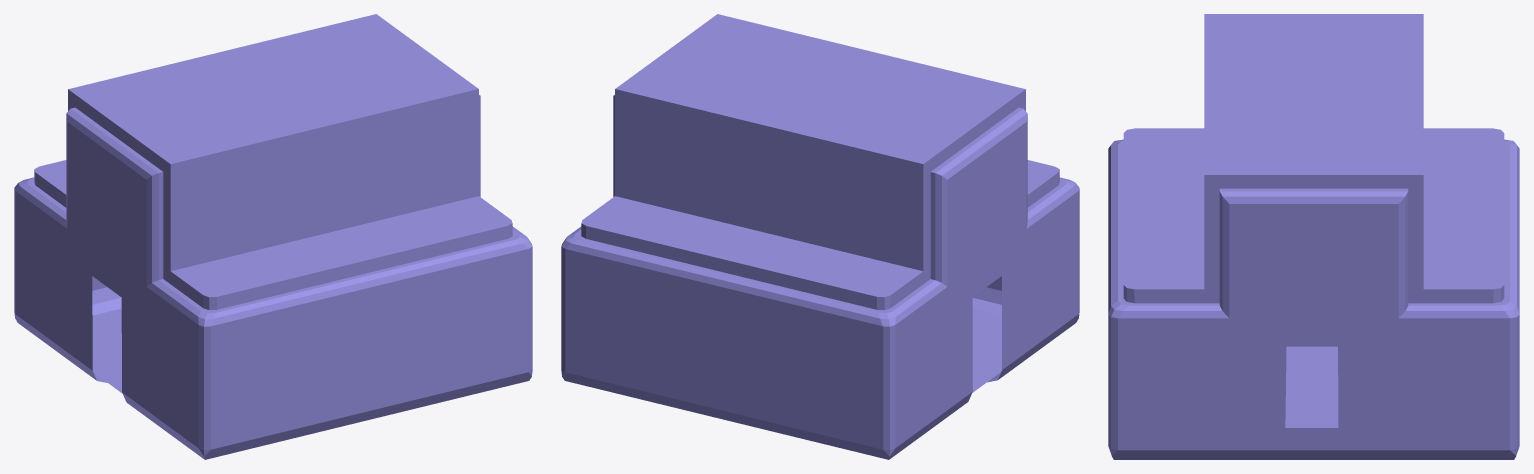
Rendered from premiere_salle.fbx.
3 renders of one model, left to right at view 1: azimuth 30°, elevation 25°; view 2: azimuth 150°, elevation 25°; view 3: azimuth 270°, elevation 25°, orthographic. The views are drawn at different scales.
Visible parts, largest first — view 1: PERMIERE_SALLE_low; view 2: PERMIERE_SALLE_low; view 3: PERMIERE_SALLE_low.
Part boxes in pixels (x1,y1,x2,y2): PERMIERE_SALLE_low: [14, 14, 532, 459]; PERMIERE_SALLE_low: [561, 14, 1079, 459]; PERMIERE_SALLE_low: [1108, 14, 1519, 459].
Bounding box in the file's own units: 18.2 × 18.2 × 13.97.
